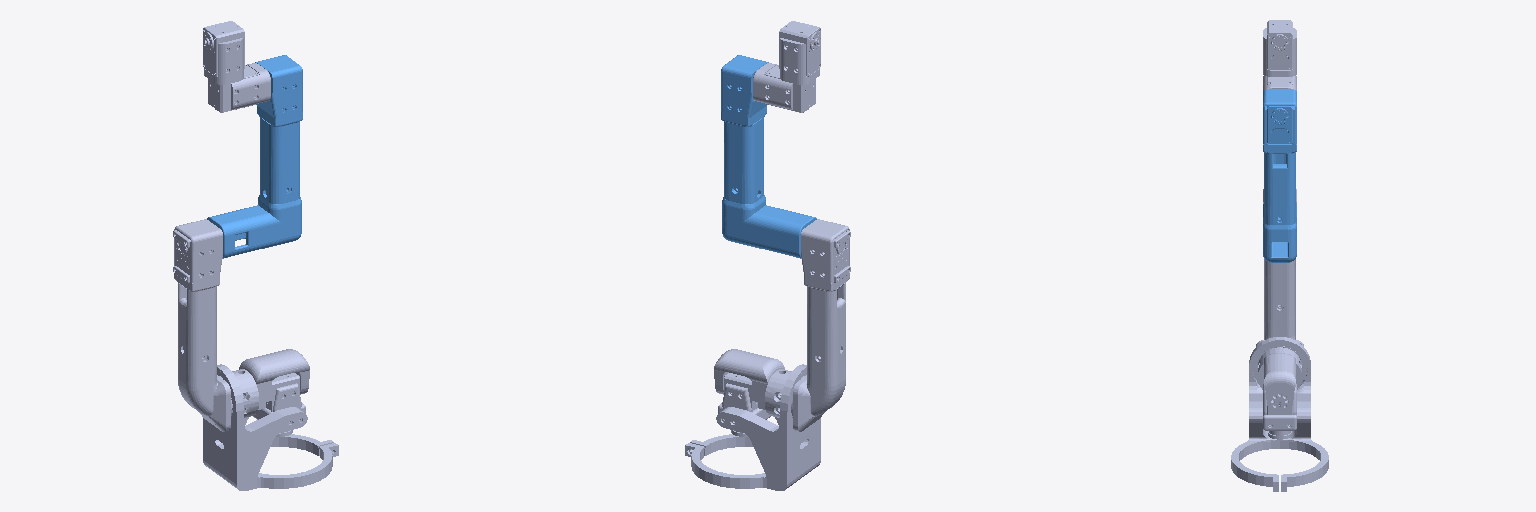
The robot description file, URDF, robot "UR3e_Master_Device":
<?xml version="1.0" encoding="utf-8"?>
<!-- This URDF was automatically created by SolidWorks to URDF Exporter! Originally created by Stephen Brawner (brawner@gmail.com) 
     Commit Version: 1.6.0-4-g7f85cfe  Build Version: 1.6.7995.38578
     For more information, please see http://wiki.ros.org/sw_urdf_exporter -->
<robot
  name="UR3e_Master_Device">
  <link
    name="base_link">
    <inertial>
      <origin
        xyz="0.0166253339882948 0.00449694012365636 -0.0600806123133589"
        rpy="0 0 0" />
      <mass
        value="0.946938752885199" />
      <inertia
        ixx="0.00176329020490228"
        ixy="0.000488969107861777"
        ixz="6.92363021198855E-05"
        iyy="0.00247416956927201"
        iyz="2.51160805375851E-05"
        izz="0.00401929869001172" />
    </inertial>
    <visual>
      <origin
        xyz="0 0 0"
        rpy="0 0 0" />
      <geometry>
        <mesh
          filename="package://UR3e_Master_Device/meshes/base_link.STL" />
      </geometry>
      <material
        name="">
        <color
          rgba="0.792156862745098 0.819607843137255 0.933333333333333 1" />
      </material>
    </visual>
    <collision>
      <origin
        xyz="0 0 0"
        rpy="0 0 0" />
      <geometry>
        <mesh
          filename="package://UR3e_Master_Device/meshes/base_link.STL" />
      </geometry>
    </collision>
  </link>
  <link
    name="L1">
    <inertial>
      <origin
        xyz="-0.0288185707034421 -1.6817073356587E-06 0.00880864688358335"
        rpy="0 0 0" />
      <mass
        value="0.248834423527377" />
      <inertia
        ixx="0.000254453408030834"
        ixy="5.81577274943217E-08"
        ixz="1.90204715476703E-05"
        iyy="0.00029997249275234"
        iyz="-1.97434976439709E-08"
        izz="0.000309238110444472" />
    </inertial>
    <visual>
      <origin
        xyz="0 0 0"
        rpy="0 0 0" />
      <geometry>
        <mesh
          filename="package://UR3e_Master_Device/meshes/L1.STL" />
      </geometry>
      <material
        name="">
        <color
          rgba="0.792156862745098 0.819607843137255 0.933333333333333 1" />
      </material>
    </visual>
    <collision>
      <origin
        xyz="0 0 0"
        rpy="0 0 0" />
      <geometry>
        <mesh
          filename="package://UR3e_Master_Device/meshes/L1.STL" />
      </geometry>
    </collision>
  </link>
  <joint
    name="J1"
    type="revolute">
    <origin
      xyz="0 0 0"
      rpy="0 0 0" />
    <parent
      link="base_link" />
    <child
      link="L1" />
    <axis
      xyz="0 0 1" />
    <limit
      lower="-3.14"
      upper="3.14"
      effort="50"
      velocity="10" />
  </joint>
  <link
    name="L2">
    <inertial>
      <origin
        xyz="-5.30567840631088E-06 -0.0668459118121905 0.0954764726937587"
        rpy="0 0 0" />
      <mass
        value="0.332602563675347" />
      <inertia
        ixx="0.000284921644195344"
        ixy="-9.27547858376867E-09"
        ixz="-6.96965180708605E-08"
        iyy="0.000143667835545385"
        iyz="2.26210666025928E-05"
        izz="0.000230200223059145" />
    </inertial>
    <visual>
      <origin
        xyz="0 0 0"
        rpy="0 0 0" />
      <geometry>
        <mesh
          filename="package://UR3e_Master_Device/meshes/L2.STL" />
      </geometry>
      <material
        name="">
        <color
          rgba="0.792156862745098 0.819607843137255 0.933333333333333 1" />
      </material>
    </visual>
    <collision>
      <origin
        xyz="0 0 0"
        rpy="0 0 0" />
      <geometry>
        <mesh
          filename="package://UR3e_Master_Device/meshes/L2.STL" />
      </geometry>
    </collision>
  </link>
  <joint
    name="J2"
    type="revolute">
    <origin
      xyz="0.0189999999999999 0 0.05305"
      rpy="-1.5707963267949 0 1.5707963267949" />
    <parent
      link="L1" />
    <child
      link="L2" />
    <axis
      xyz="0 0 -1" />
    <limit
      lower="-3.14"
      upper="3.14"
      effort="50"
      velocity="10" />
  </joint>
  <link
    name="L3">
    <inertial>
      <origin
        xyz="0.0738930088555916 -7.30306510614911E-05 0.0720704486633671"
        rpy="0 0 0" />
      <mass
        value="0.252374468137062" />
      <inertia
        ixx="0.000122794178748546"
        ixy="-1.09414914352256E-07"
        ixz="-1.00667008975913E-05"
        iyy="0.000246290490802377"
        iyz="-7.37219411483898E-07"
        izz="0.000189040237390023" />
    </inertial>
    <visual>
      <origin
        xyz="0 0 0"
        rpy="0 0 0" />
      <geometry>
        <mesh
          filename="package://UR3e_Master_Device/meshes/L3.STL" />
      </geometry>
      <material
        name="">
        <color
          rgba="0.435294117647059 0.717647058823529 1 1" />
      </material>
    </visual>
    <collision>
      <origin
        xyz="0 0 0"
        rpy="0 0 0" />
      <geometry>
        <mesh
          filename="package://UR3e_Master_Device/meshes/L3.STL" />
      </geometry>
    </collision>
  </link>
  <joint
    name="J3"
    type="revolute">
    <origin
      xyz="0 -0.184800000000004 0.0979"
      rpy="3.14159265358979 0 -1.5707963267949" />
    <parent
      link="L2" />
    <child
      link="L3" />
    <axis
      xyz="0 0 1" />
    <limit
      lower="-3.14"
      upper="3.14"
      effort="50"
      velocity="10" />
  </joint>
  <link
    name="L4">
    <inertial>
      <origin
        xyz="-0.000269195098212494 -7.00946503244537E-05 0.030790696992483"
        rpy="0 0 0" />
      <mass
        value="0.0640272941092606" />
      <inertia
        ixx="1.77845103192271E-05"
        ixy="2.13231974753562E-13"
        ixz="-1.60165502134492E-09"
        iyy="1.71957800606779E-05"
        iyz="-5.24396592233277E-15"
        izz="1.24379604108842E-05" />
    </inertial>
    <visual>
      <origin
        xyz="0 0 0"
        rpy="0 0 0" />
      <geometry>
        <mesh
          filename="package://UR3e_Master_Device/meshes/L4.STL" />
      </geometry>
      <material
        name="">
        <color
          rgba="0.792156862745098 0.819607843137255 0.933333333333333 1" />
      </material>
    </visual>
    <collision>
      <origin
        xyz="0 0 0"
        rpy="0 0 0" />
      <geometry>
        <mesh
          filename="package://UR3e_Master_Device/meshes/L4.STL" />
      </geometry>
    </collision>
  </link>
  <joint
    name="J4"
    type="revolute">
    <origin
      xyz="0.164929999999995 0 0.0607500000000001"
      rpy="-3.14159265358979 0 -3.14159265358979" />
    <parent
      link="L3" />
    <child
      link="L4" />
    <axis
      xyz="0 0 1" />
    <limit
      lower="-3.14"
      upper="3.14"
      effort="50"
      velocity="10" />
  </joint>
  <link
    name="L5">
    <inertial>
      <origin
        xyz="-0.000275652809283627 -7.17761482512749E-05 0.0253853917519625"
        rpy="0 0 0" />
      <mass
        value="0.0625273283844539" />
      <inertia
        ixx="1.75560392484464E-05"
        ixy="1.69055779530118E-12"
        ixz="-1.60165502137006E-09"
        iyy="1.68668273907939E-05"
        iyz="-5.2442251920535E-15"
        izz="1.20267340837592E-05" />
    </inertial>
    <visual>
      <origin
        xyz="0 0 0"
        rpy="0 0 0" />
      <geometry>
        <mesh
          filename="package://UR3e_Master_Device/meshes/L5.STL" />
      </geometry>
      <material
        name="">
        <color
          rgba="0.792156862745098 0.819607843137255 0.933333333333333 1" />
      </material>
    </visual>
    <collision>
      <origin
        xyz="0 0 0"
        rpy="0 0 0" />
      <geometry>
        <mesh
          filename="package://UR3e_Master_Device/meshes/L5.STL" />
      </geometry>
    </collision>
  </link>
  <joint
    name="J5"
    type="revolute">
    <origin
      xyz="-0.019 -0.000100000000000024 0.048"
      rpy="3.14159265358979 1.5707963267949 0" />
    <parent
      link="L4" />
    <child
      link="L5" />
    <axis
      xyz="0 0 1" />
    <limit
      lower="-3.14"
      upper="3.14"
      effort="50"
      velocity="10" />
  </joint>
  <link
    name="L6">
    <inertial>
      <origin
        xyz="0.0178726339107397 1.10571523227396E-06 0.0381797988612935"
        rpy="0 0 0" />
      <mass
        value="0.0102439007985795" />
      <inertia
        ixx="9.19802028619916E-06"
        ixy="-1.0858314059843E-10"
        ixz="-4.58086518567347E-06"
        iyy="1.15658279502547E-05"
        iyz="-1.07204104227685E-10"
        izz="3.47966694616601E-06" />
    </inertial>
    <visual>
      <origin
        xyz="0 0 0"
        rpy="0 0 0" />
      <geometry>
        <mesh
          filename="package://UR3e_Master_Device/meshes/L6.STL" />
      </geometry>
      <material
        name="">
        <color
          rgba="0.792156862745098 0.819607843137255 0.933333333333333 1" />
      </material>
    </visual>
    <collision>
      <origin
        xyz="0 0 0"
        rpy="0 0 0" />
      <geometry>
        <mesh
          filename="package://UR3e_Master_Device/meshes/L6.STL" />
      </geometry>
    </collision>
  </link>
  <joint
    name="J6"
    type="revolute">
    <origin
      xyz="-0.019 -0.0001 0.04145"
      rpy="3.1416 1.5708 0" />
    <parent
      link="L5" />
    <child
      link="L6" />
    <axis
      xyz="0 0 1" />
    <limit
      lower="-3.14"
      upper="3.14"
      effort="50"
      velocity="10" />
  </joint>
</robot>

--- What the picture shows (computed from the rendered views, not written in the file) ---
3 views of the same robot in one strip: view 1: azimuth 30°, elevation 25°; view 2: azimuth 150°, elevation 25°; view 3: azimuth 270°, elevation 25° (orthographic).
Robot: UR3e_Master_Device — 7 links, 6 joints (6 revolute); root link base_link; default pose: all joints at 0.
Visible links, largest first — view 1: L2, L3, L1, L5, L4; view 2: L2, L3, L1, L5, L4; view 3: L1, L3, L2, L5.
Link boxes in pixels (x1,y1,x2,y2): L2: (173, 219, 309, 431); L3: (207, 55, 302, 258); L1: (203, 364, 338, 490); L5: (203, 21, 244, 84); L4: (208, 63, 270, 112); L2: (714, 219, 850, 431); L3: (721, 55, 816, 258); L1: (685, 364, 820, 490); L5: (779, 21, 820, 84); L4: (753, 63, 815, 112); L1: (1231, 337, 1328, 491); L3: (1263, 89, 1296, 262); L2: (1256, 189, 1303, 412); L5: (1263, 20, 1296, 76).
Size in the robot's own frame: 0.1839 by 0.1098 by 0.5145 metres.
Meshes: 7 distinct files referenced, 5 mesh visuals loaded (5 binary STL); not drawn: 2 (reference not matched to a file when rendering).
